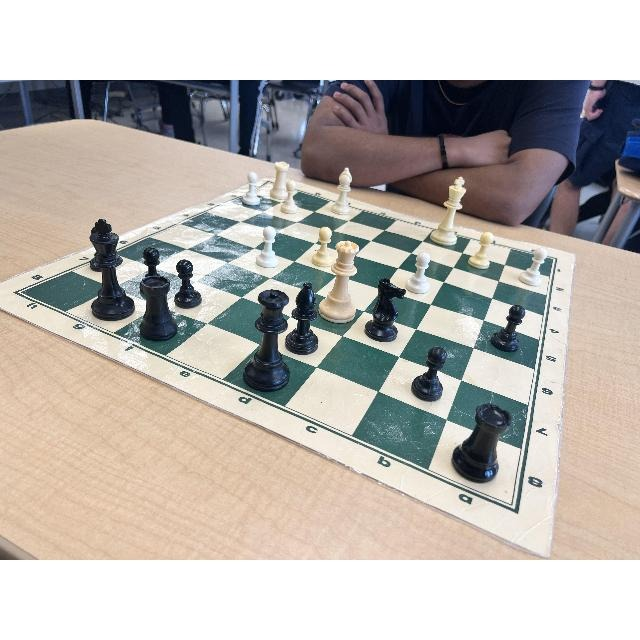black-bishop: (285, 280, 321, 356)
black-king: (88, 218, 136, 321)
black-knight: (364, 274, 408, 346)
black-pawn: (410, 341, 447, 401), (490, 301, 526, 353), (172, 257, 203, 310), (139, 243, 165, 294)
black-queen: (243, 279, 293, 393)
black-rook: (451, 401, 513, 483), (136, 272, 180, 343)
white-bishop: (329, 165, 357, 215)
white-king: (430, 173, 466, 246)
white-pawn: (518, 244, 547, 288), (404, 250, 432, 294), (255, 224, 281, 269), (467, 230, 494, 272), (311, 224, 334, 267), (240, 171, 261, 207), (281, 179, 300, 215)
white-queen: (319, 240, 361, 326)
white-rook: (271, 158, 291, 202)
